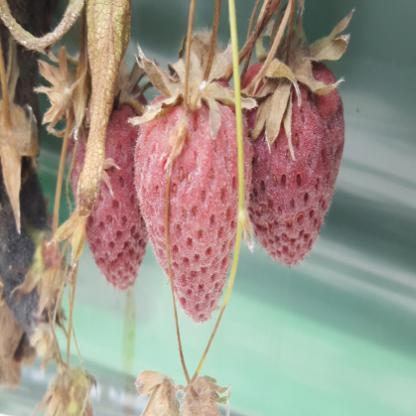Strawberry_Powdery_Mildew_Fruit: (134, 67, 254, 324), (235, 55, 344, 269), (67, 102, 151, 289)
